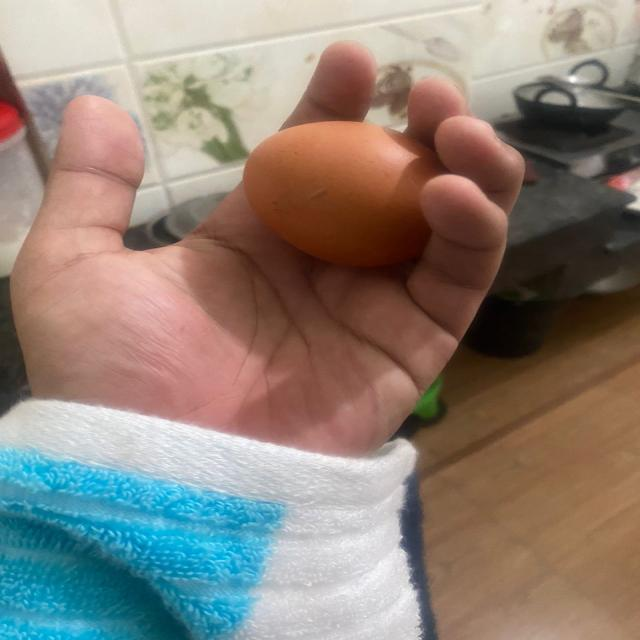Egg: (247, 122, 450, 269)
